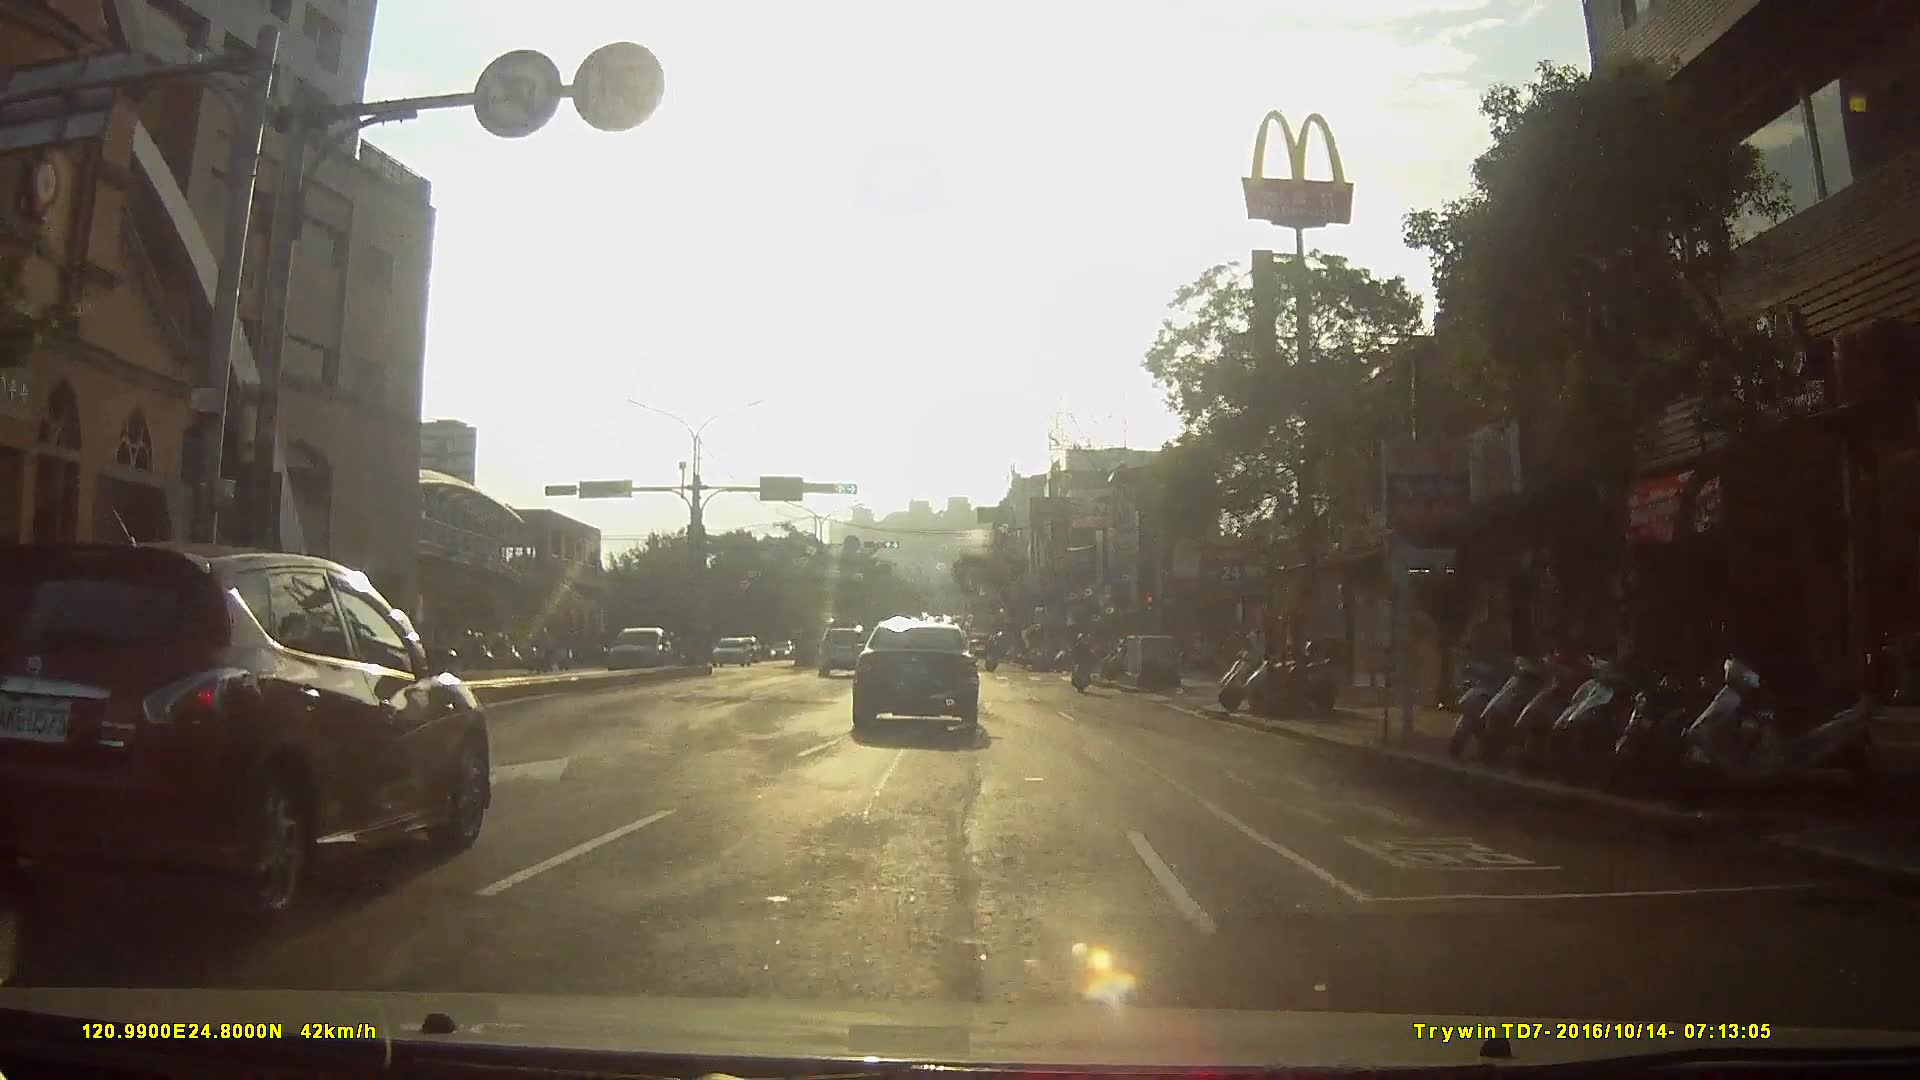rider: (1069, 629, 1094, 695), (982, 639, 1002, 675)
vehicle: (2, 531, 501, 930), (847, 610, 992, 734), (594, 622, 675, 675), (813, 624, 870, 679), (708, 633, 756, 670)
